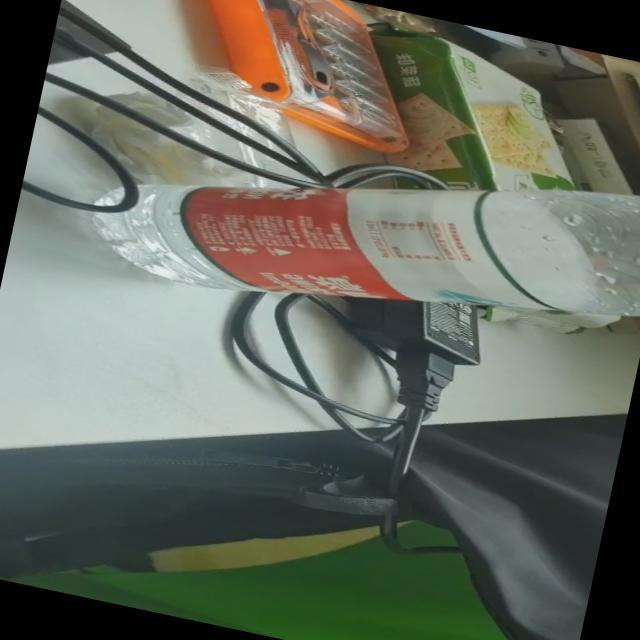good: (77, 74, 640, 384)
